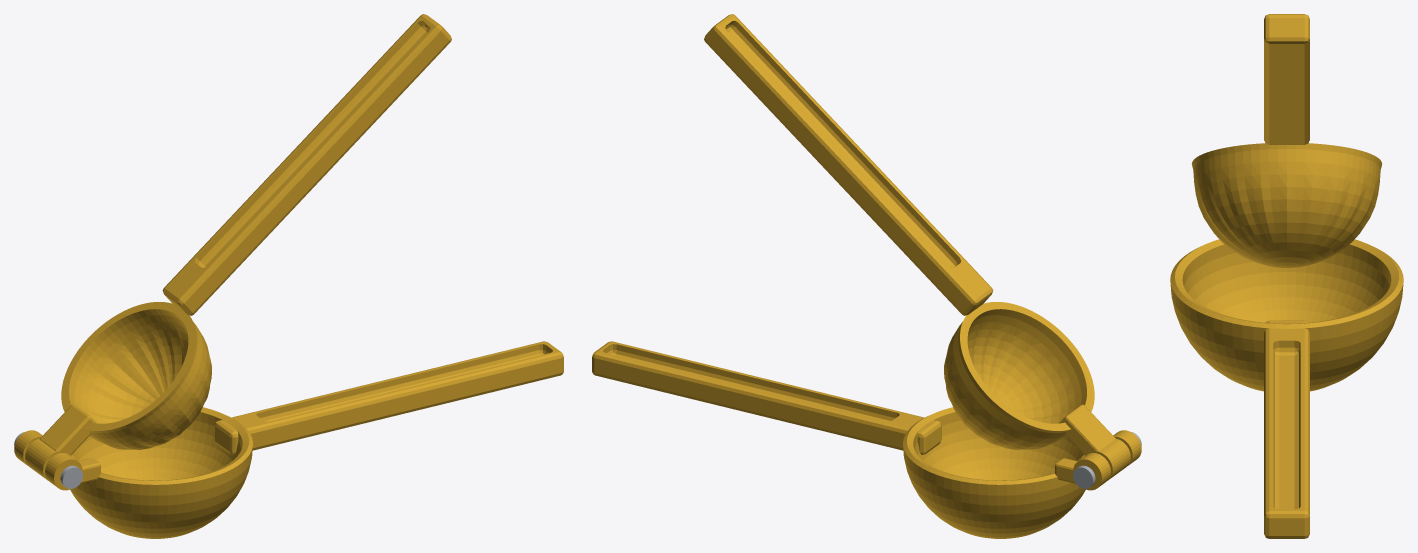
3 renders of one model, left to right at view 1: azimuth 30°, elevation 25°; view 2: azimuth 150°, elevation 25°; view 3: azimuth 270°, elevation 25°, orthographic. The views are drawn at different scales.
Visible parts, largest first — view 1: Upper nesting pressing cup, Upper long handle, Lower perforated receiver, Lower long handle, Upper middle hinge seat, Upper middle hinge, Lower left hinge; view 2: Upper nesting pressing cup, Upper long handle, Lower perforated receiver, Lower long handle, Upper middle hinge seat, Upper middle hinge, Lower right hinge; view 3: Lower perforated receiver, Upper nesting pressing cup, Lower long handle, Upper long handle.
Part boxes in pixels (x1,y1,x2,y2): Upper nesting pressing cup: (61, 302, 211, 449); Upper long handle: (162, 14, 451, 315); Lower perforated receiver: (70, 407, 252, 538); Lower long handle: (214, 341, 563, 454); Upper middle hinge seat: (39, 404, 96, 455); Upper middle hinge: (25, 438, 66, 480); Lower left hinge: (45, 453, 82, 490); Upper nesting pressing cup: (944, 302, 1094, 449); Upper long handle: (704, 14, 993, 315); Lower perforated receiver: (903, 407, 1085, 538); Lower long handle: (592, 341, 941, 454); Upper middle hinge seat: (1059, 404, 1116, 455); Upper middle hinge: (1090, 438, 1130, 480); Lower right hinge: (1073, 453, 1110, 490); Lower perforated receiver: (1170, 239, 1403, 391); Upper nesting pressing cup: (1192, 143, 1381, 267); Lower long handle: (1264, 320, 1309, 538); Upper long handle: (1264, 14, 1309, 144).
Size of the model in its own units: 0.2345 by 0.1899 by 0.076.
